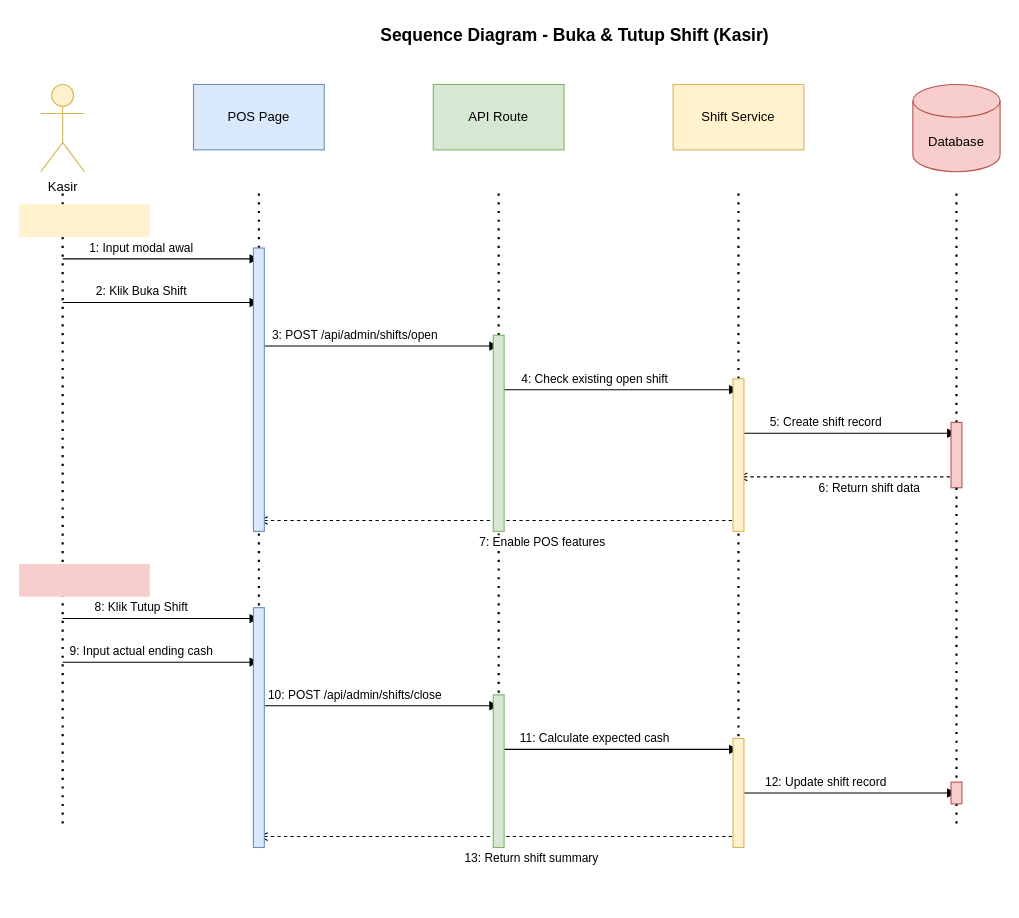
Image size: 1019x918. Some labels were removed from this diagram. The box of each missing label's shape, as (x1, y1, x2, y2) in pixels:
BUKA SHIFT: (19, 204, 149, 237)
TUTUP SHIFT: (19, 564, 149, 596)
